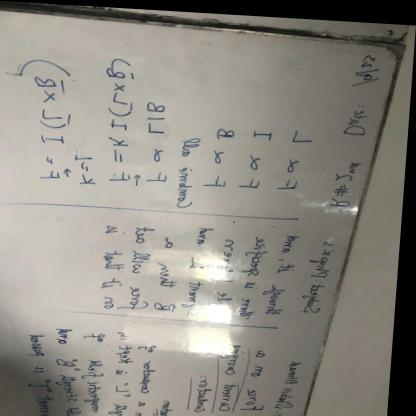Handwritten text: (180, 219, 222, 321), (266, 342, 317, 416), (52, 322, 91, 416), (270, 223, 307, 315), (99, 216, 134, 311), (26, 329, 61, 416), (112, 318, 143, 416), (242, 232, 275, 319), (216, 230, 247, 321), (84, 322, 114, 416), (133, 217, 162, 313), (175, 132, 210, 211), (159, 228, 188, 313), (137, 335, 165, 416), (223, 334, 252, 411), (249, 340, 277, 412), (338, 102, 376, 137), (197, 367, 224, 416), (144, 94, 174, 136), (289, 119, 323, 147), (209, 163, 238, 192), (212, 114, 245, 137), (276, 171, 307, 194), (150, 161, 174, 190), (241, 169, 266, 193), (163, 393, 189, 416), (252, 123, 281, 141)
Whiteboard: (0, 5, 405, 416)
